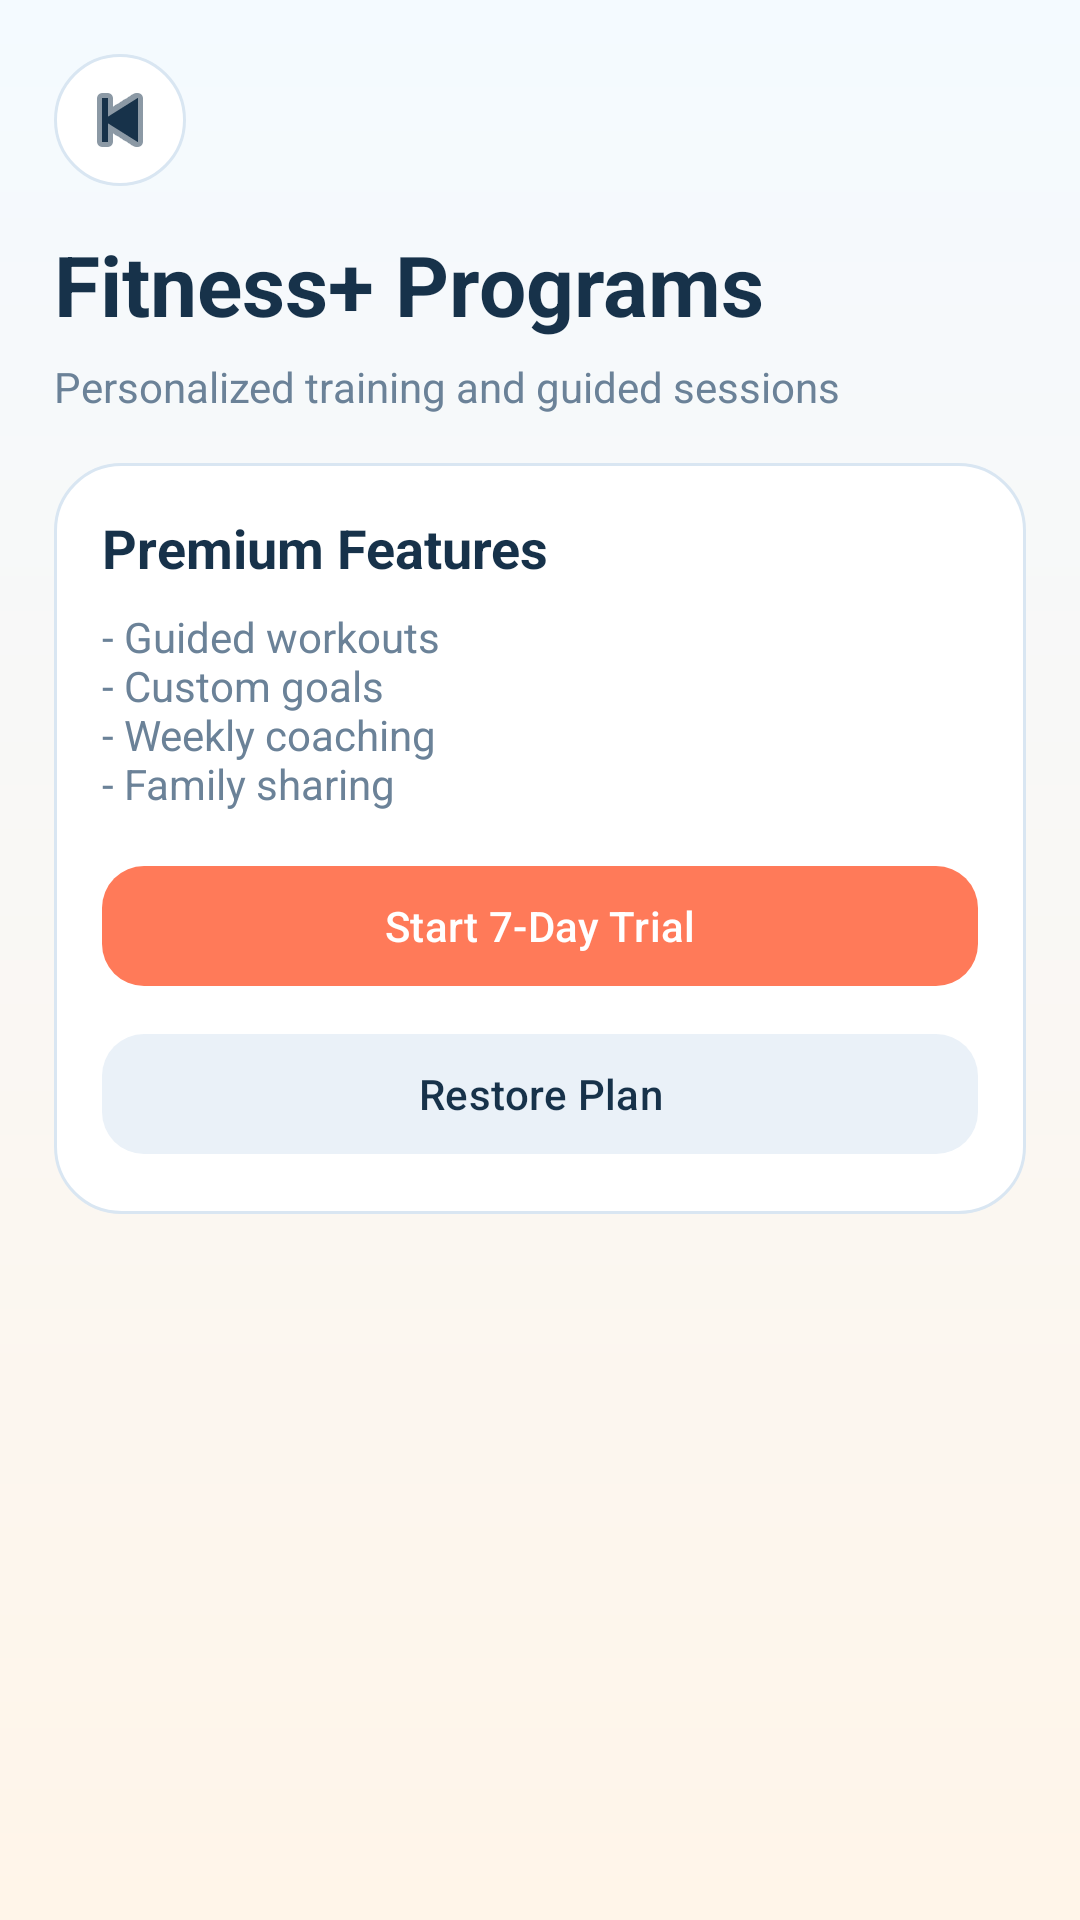

Named icons in this screenshot (1080 x 1920) and their centers, [x,y]:
previous: [120,120]
